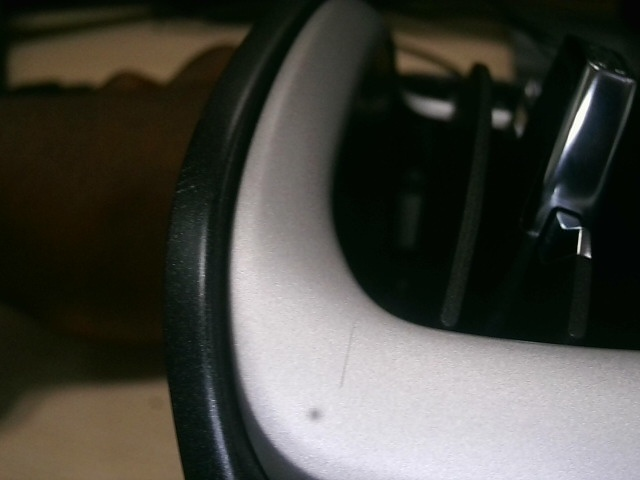NG: (337, 325, 364, 397), (174, 169, 201, 220)
